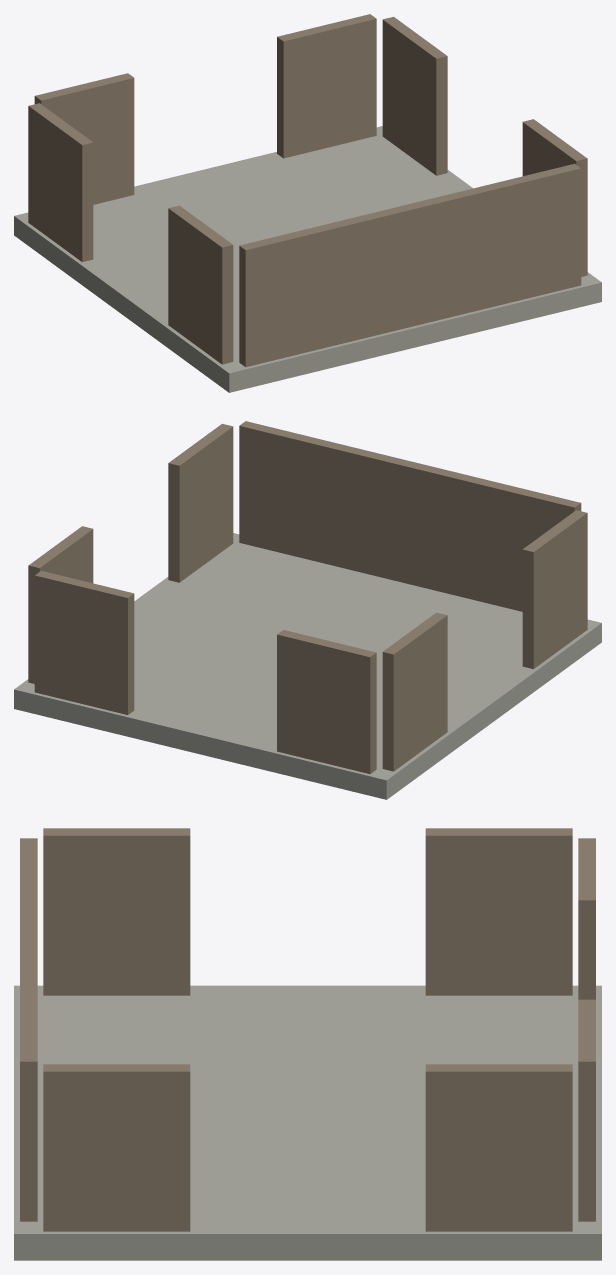
Rendered from passage-tee.glb.
The picture shows the model from 3 angles, top to bottom: view 1: azimuth 30°, elevation 25°; view 2: azimuth 150°, elevation 25°; view 3: azimuth 270°, elevation 25°; orthographic projection. The views are drawn at different scales.
Parts seen in each view (by area): view 1: tee_S_panel_0, tee_floor, tee_N_panel_1, tee_E_panel_1, tee_W_panel_1, tee_W_panel_0, tee_N_panel_0, tee_E_panel_0; view 2: tee_floor, tee_S_panel_0, tee_N_panel_1, tee_N_panel_0, tee_E_panel_0, tee_W_panel_0, tee_W_panel_1, tee_E_panel_1; view 3: tee_floor, tee_E_panel_0, tee_E_panel_1, tee_W_panel_0, tee_W_panel_1, tee_S_panel_0, tee_N_panel_1, tee_N_panel_0.
Boxes of the visible parts, left/top/right/bottom form: tee_S_panel_0: left=239, top=163, right=581, bottom=367; tee_floor: left=14, top=126, right=601, bottom=392; tee_N_panel_1: left=277, top=14, right=376, bottom=158; tee_E_panel_1: left=382, top=16, right=447, bottom=175; tee_W_panel_1: left=28, top=103, right=93, bottom=262; tee_W_panel_0: left=168, top=205, right=233, bottom=364; tee_N_panel_0: left=34, top=73, right=134, bottom=204; tee_E_panel_0: left=522, top=119, right=587, bottom=276; tee_floor: left=14, top=533, right=601, bottom=799; tee_S_panel_0: left=239, top=421, right=581, bottom=611; tee_N_panel_1: left=34, top=570, right=134, bottom=714; tee_N_panel_0: left=277, top=630, right=376, bottom=774; tee_E_panel_0: left=168, top=423, right=233, bottom=582; tee_W_panel_0: left=522, top=510, right=587, bottom=669; tee_W_panel_1: left=382, top=612, right=447, bottom=771; tee_E_panel_1: left=28, top=526, right=93, bottom=683; tee_floor: left=14, top=985, right=601, bottom=1260; tee_E_panel_0: left=43, top=1064, right=190, bottom=1231; tee_E_panel_1: left=425, top=1064, right=572, bottom=1231; tee_W_panel_0: left=43, top=828, right=190, bottom=995; tee_W_panel_1: left=425, top=828, right=572, bottom=995; tee_S_panel_0: left=20, top=838, right=37, bottom=1221; tee_N_panel_1: left=578, top=999, right=595, bottom=1221; tee_N_panel_0: left=578, top=838, right=595, bottom=999.
Size of the model in its own units: 4 by 1.4 by 4.
